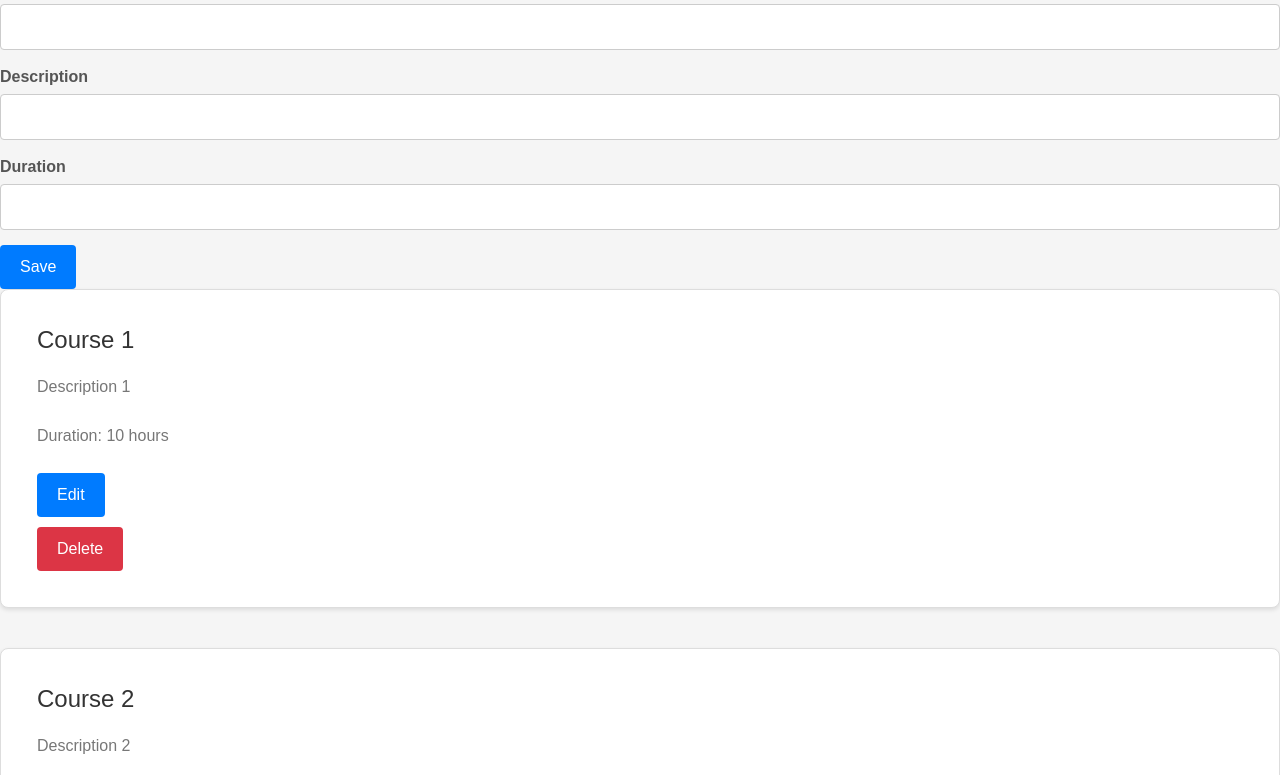
Test: can add a new course
Type "New Course" into the field labelled "Title". click: (640, 27)
box: x1=0 y1=4 x2=1279 y2=50
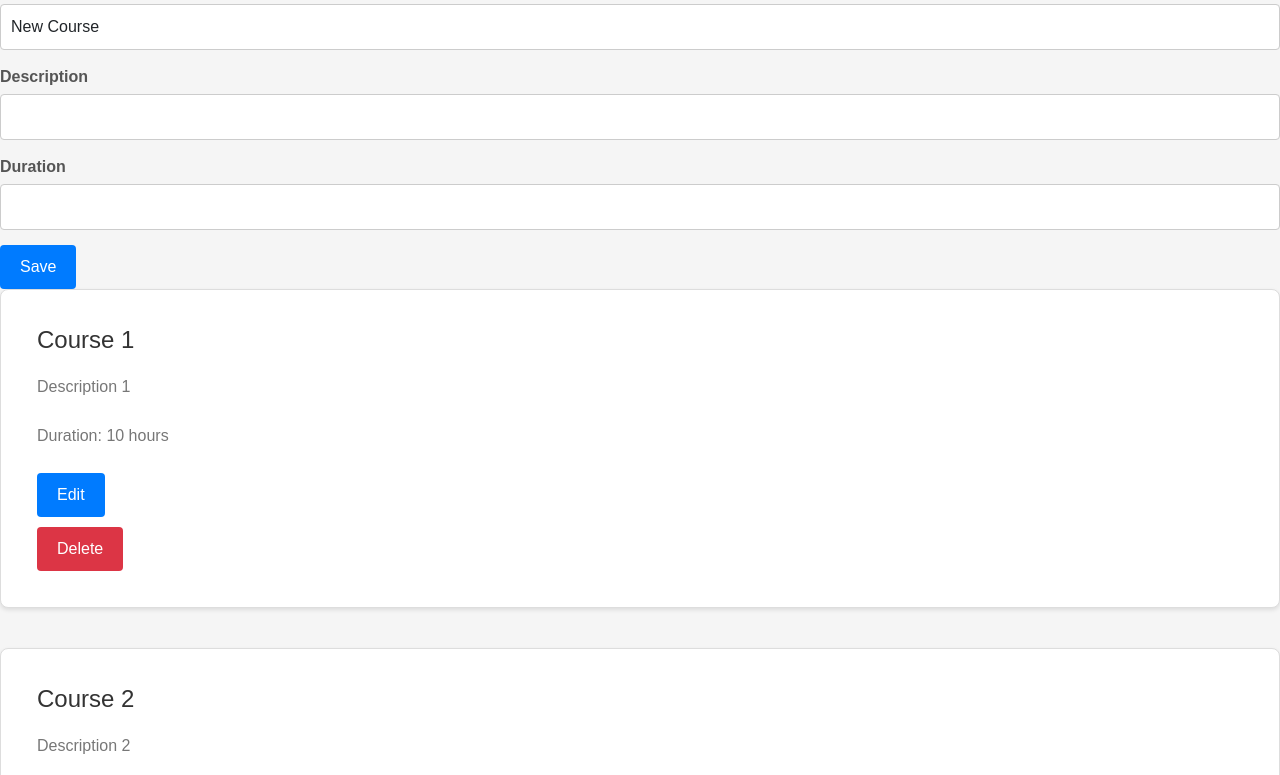
Type "New Description" into the field labelled "Description". click: (640, 117)
box: x1=0 y1=94 x2=1279 y2=140
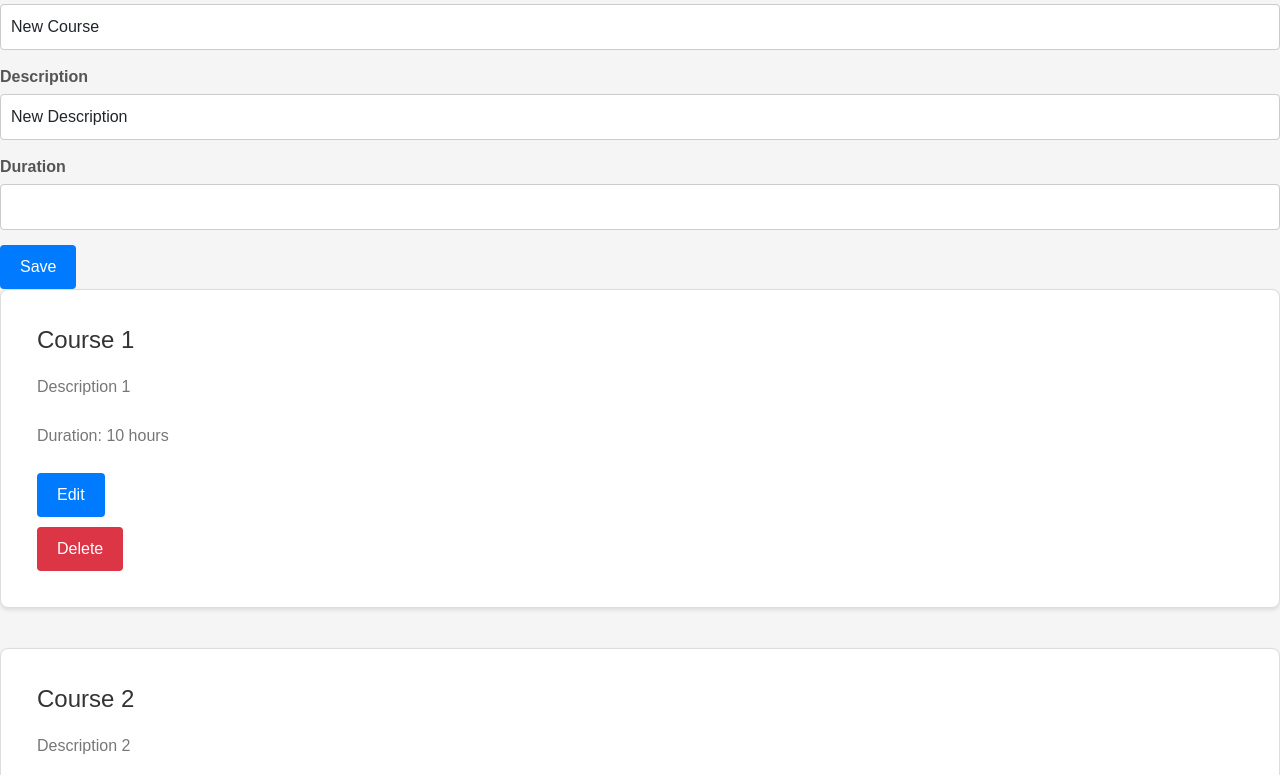
Type "30" into the field labelled "Duration". click: (640, 207)
box: x1=0 y1=184 x2=1279 y2=230
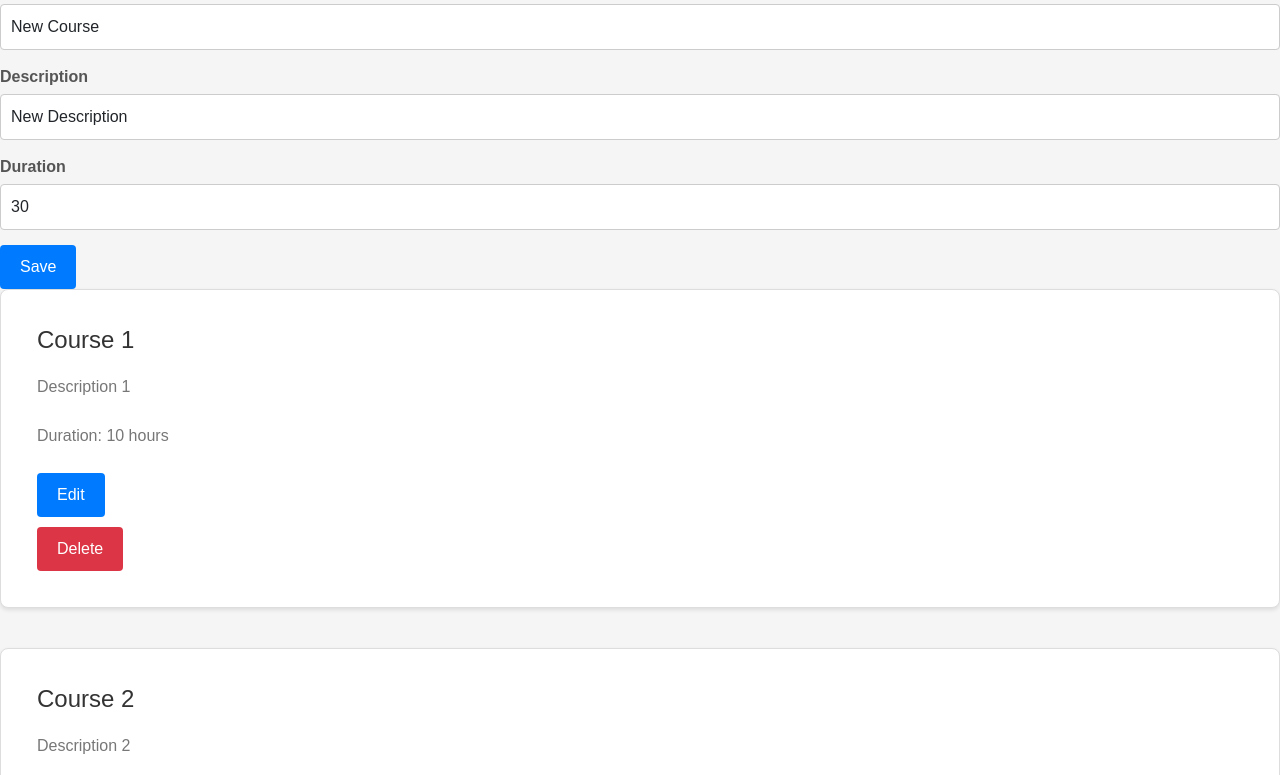
Click the button "Save". click: (38, 267)
box: x1=0 y1=245 x2=76 y2=289
(page scrolled)
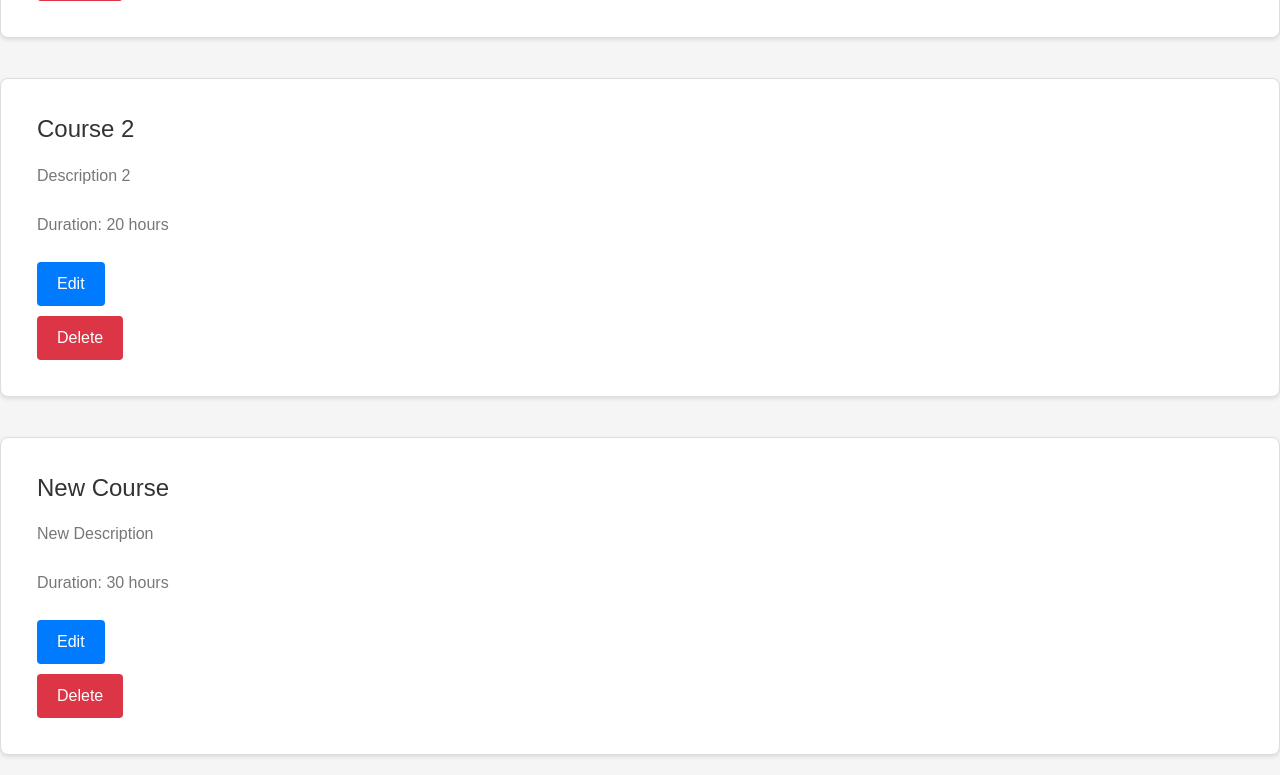
Expected: the heading "New Course" is shown, x1=37 y1=474 x2=169 y2=501
